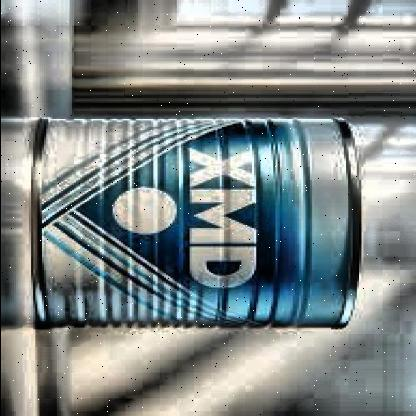Can: (26, 113, 368, 335)
